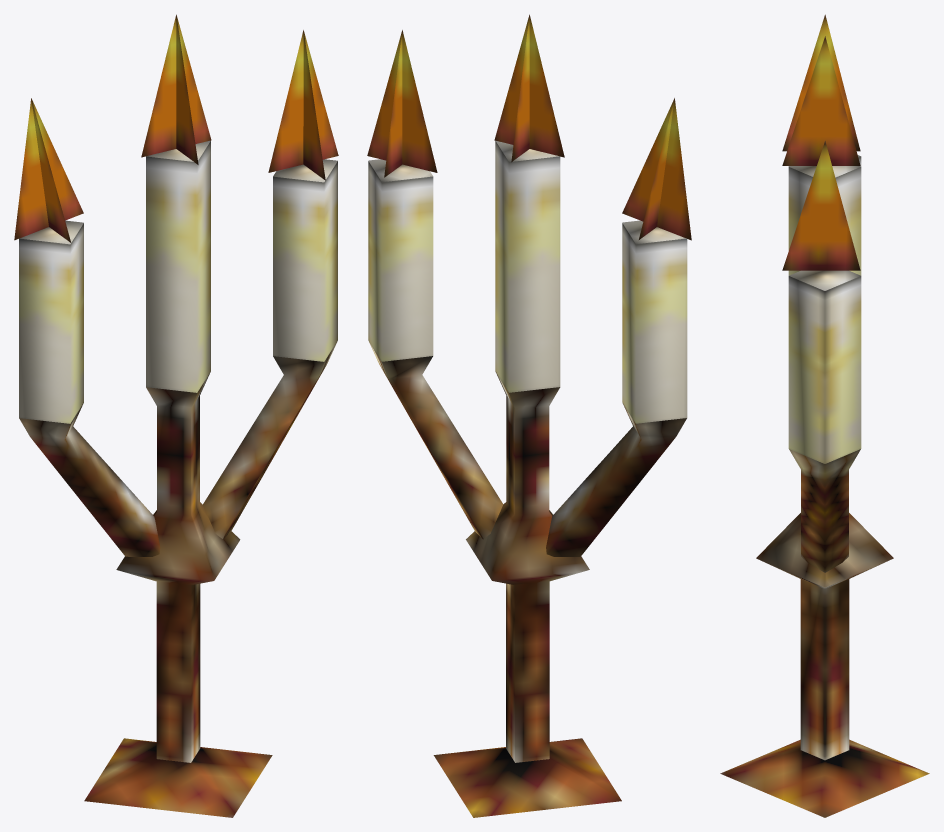
3 renders of one model, left to right at view 1: azimuth 30°, elevation 25°; view 2: azimuth 150°, elevation 25°; view 3: azimuth 270°, elevation 25°, orthographic. The views are drawn at different scales.
Parts seen in each view (by area): view 1: a55; view 2: a55; view 3: a55.
Boxes of the visible parts, box(x1,y1,x2,y2) form: a55: box(14, 14, 338, 817); a55: box(367, 14, 691, 817); a55: box(720, 14, 929, 817).
Size of the model in its own units: 98.22 by 221 by 57.08.
